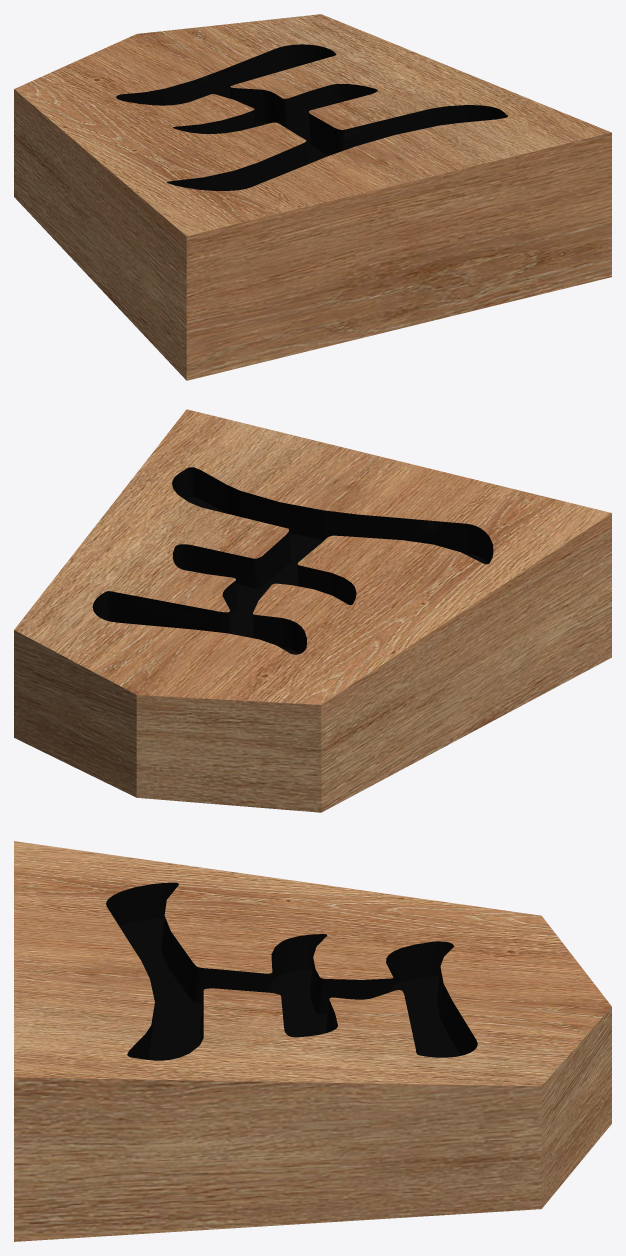
Rendered from King.fbx.
The picture shows the model from 3 angles, top to bottom: view 1: azimuth 30°, elevation 25°; view 2: azimuth 150°, elevation 25°; view 3: azimuth 270°, elevation 25°; orthographic projection. The views are drawn at different scales.
Parts seen in each view (by area): view 1: King1; view 2: King1; view 3: King1.
Part boxes in pixels (x1=…): King1: x1=14, y1=14, x2=611, y2=380; King1: x1=14, y1=409, x2=611, y2=812; King1: x1=14, y1=841, x2=611, y2=1241.
Size of the model in its own units: 2746 by 891 by 2936.
